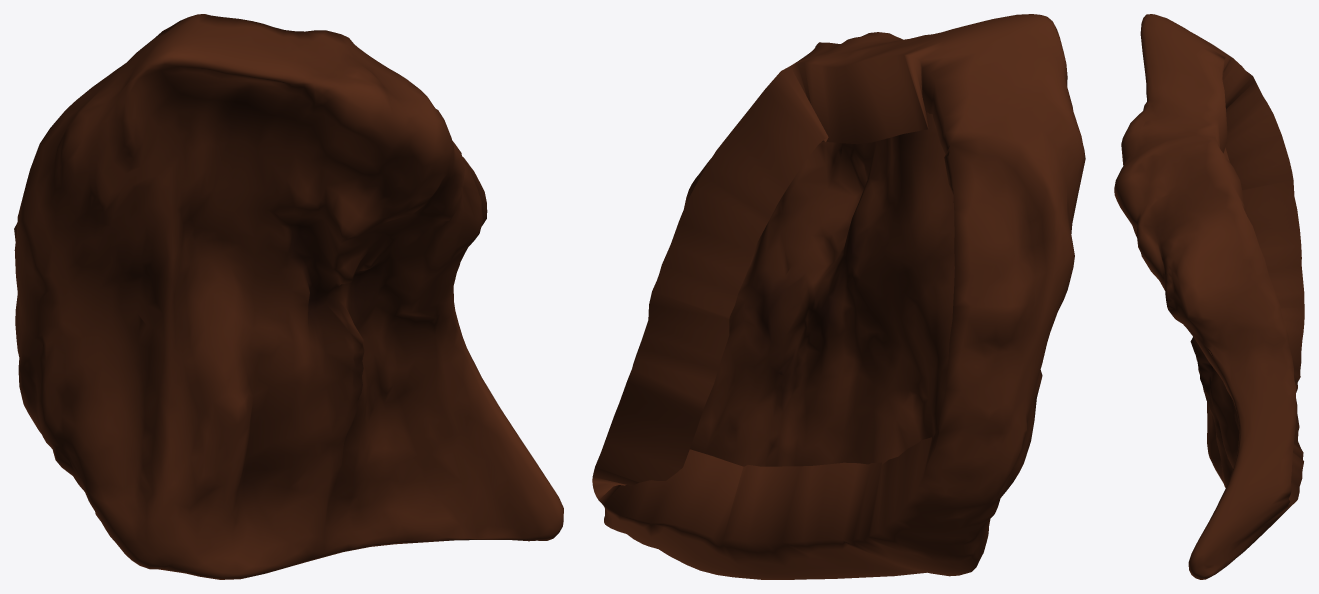
Rendered from env_digsiterock_wall01.fbx.
3 views of the same model, side by side, from view 1: azimuth 30°, elevation 25°; view 2: azimuth 150°, elevation 25°; view 3: azimuth 270°, elevation 25° (orthographic). The views are drawn at different scales.
Parts seen in each view (by area): view 1: env_digsiterock_wall01.001; view 2: env_digsiterock_wall01.001; view 3: env_digsiterock_wall01.001.
Part boxes in pixels (box(x1,y1,x2,y2)): env_digsiterock_wall01.001: box(14, 14, 563, 579); env_digsiterock_wall01.001: box(592, 14, 1085, 579); env_digsiterock_wall01.001: box(1114, 14, 1304, 579).
Bounding box in the file's own units: 343 × 392 × 159.
